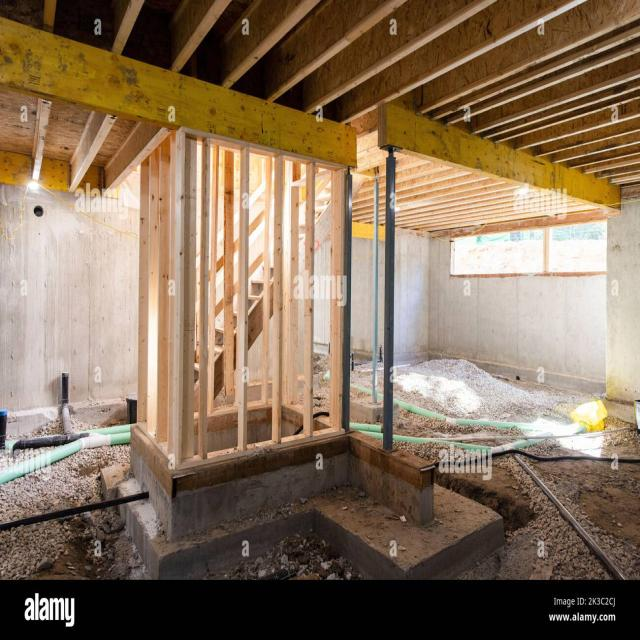floor: (0, 504, 405, 581), (401, 453, 621, 582), (514, 452, 640, 581), (393, 359, 606, 422), (0, 442, 131, 525), (393, 403, 575, 444), (520, 429, 640, 459), (0, 443, 71, 472), (349, 387, 384, 427), (6, 416, 64, 440), (313, 353, 331, 413), (577, 417, 635, 433), (71, 417, 130, 431), (350, 363, 373, 391), (377, 362, 384, 395)
wall: (0, 150, 140, 413), (429, 208, 607, 398), (604, 197, 640, 425), (393, 227, 429, 364), (351, 222, 374, 360), (313, 232, 331, 355), (377, 226, 385, 364), (247, 330, 263, 383), (248, 219, 265, 268), (249, 201, 264, 225), (216, 265, 224, 308), (268, 314, 273, 379), (233, 211, 240, 244), (233, 249, 238, 287), (215, 308, 224, 329), (233, 292, 237, 312)
